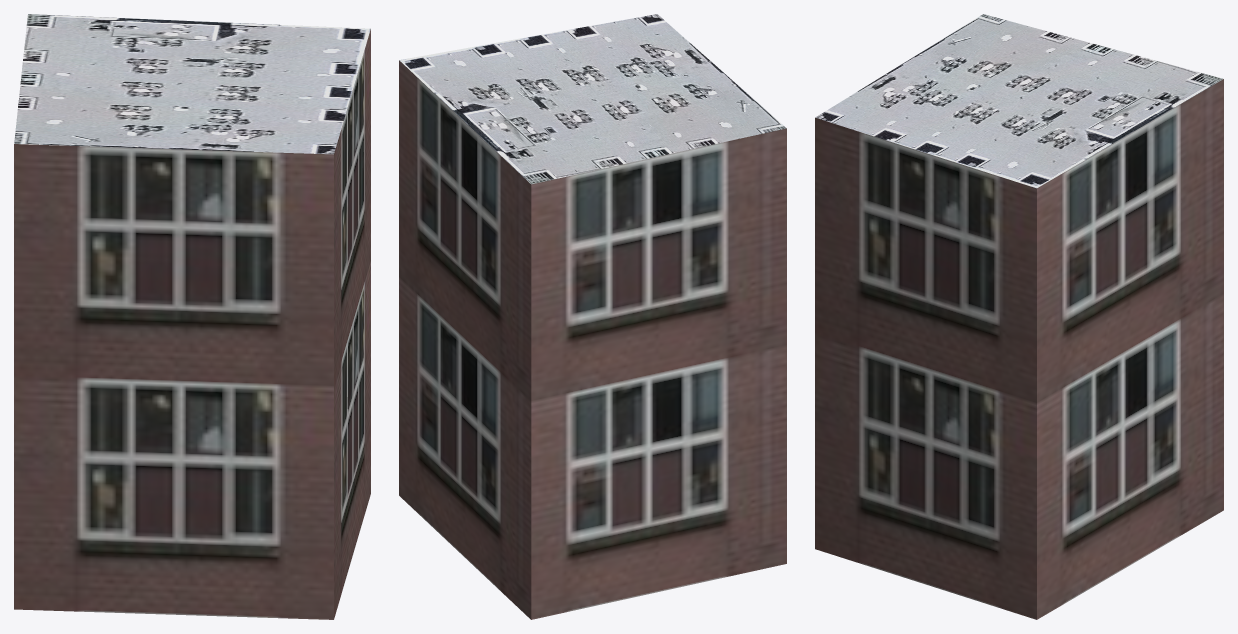
The model's file is ResTex__2211.fbx.
3 views of the same model, side by side, from view 1: azimuth 30°, elevation 25°; view 2: azimuth 150°, elevation 25°; view 3: azimuth 270°, elevation 25° (orthographic). The views are drawn at different scales.
Parts seen in each view (by area): view 1: CityEngineMaterial_12_m, CityEngineMaterial_m; view 2: CityEngineMaterial_12_m, CityEngineMaterial_m; view 3: CityEngineMaterial_12_m, CityEngineMaterial_m.
Boxes of the visible parts, <box> form: CityEngineMaterial_12_m: <box>14,29,370,619</box>; CityEngineMaterial_m: <box>14,14,370,154</box>; CityEngineMaterial_12_m: <box>399,60,786,619</box>; CityEngineMaterial_m: <box>399,14,786,184</box>; CityEngineMaterial_12_m: <box>815,79,1223,619</box>; CityEngineMaterial_m: <box>815,14,1222,188</box>.
Bounding box in the file's own units: 5.2 × 6 × 5.15.
2 materials, 2 textured.
